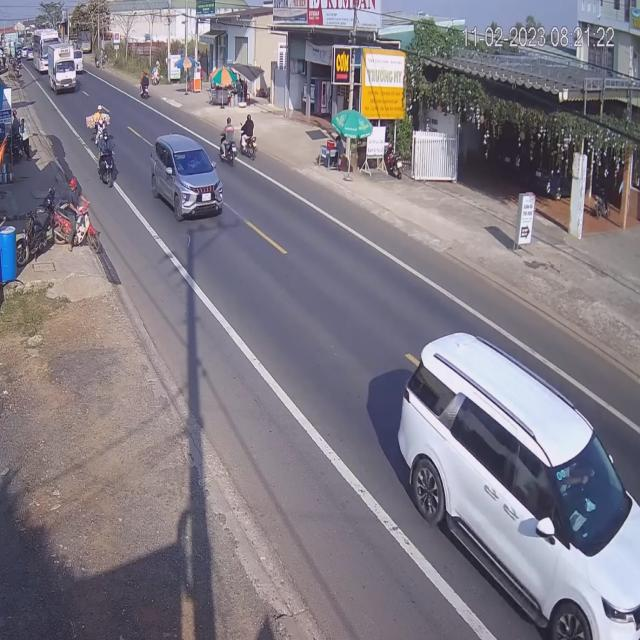car: (394, 325, 633, 640), (153, 134, 225, 223)
motorbike: (98, 135, 118, 189), (240, 111, 257, 160), (89, 106, 111, 142), (219, 116, 235, 165), (138, 70, 150, 101)
truck: (45, 42, 78, 94)
